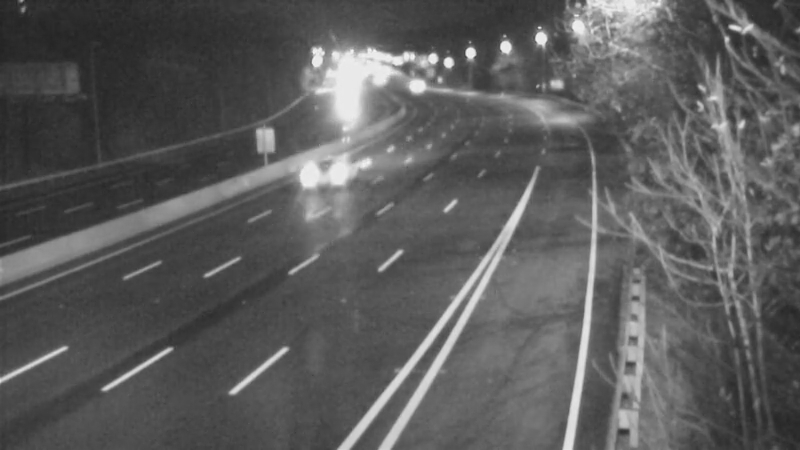vehicle: (282, 132, 362, 212), (388, 60, 438, 110)
